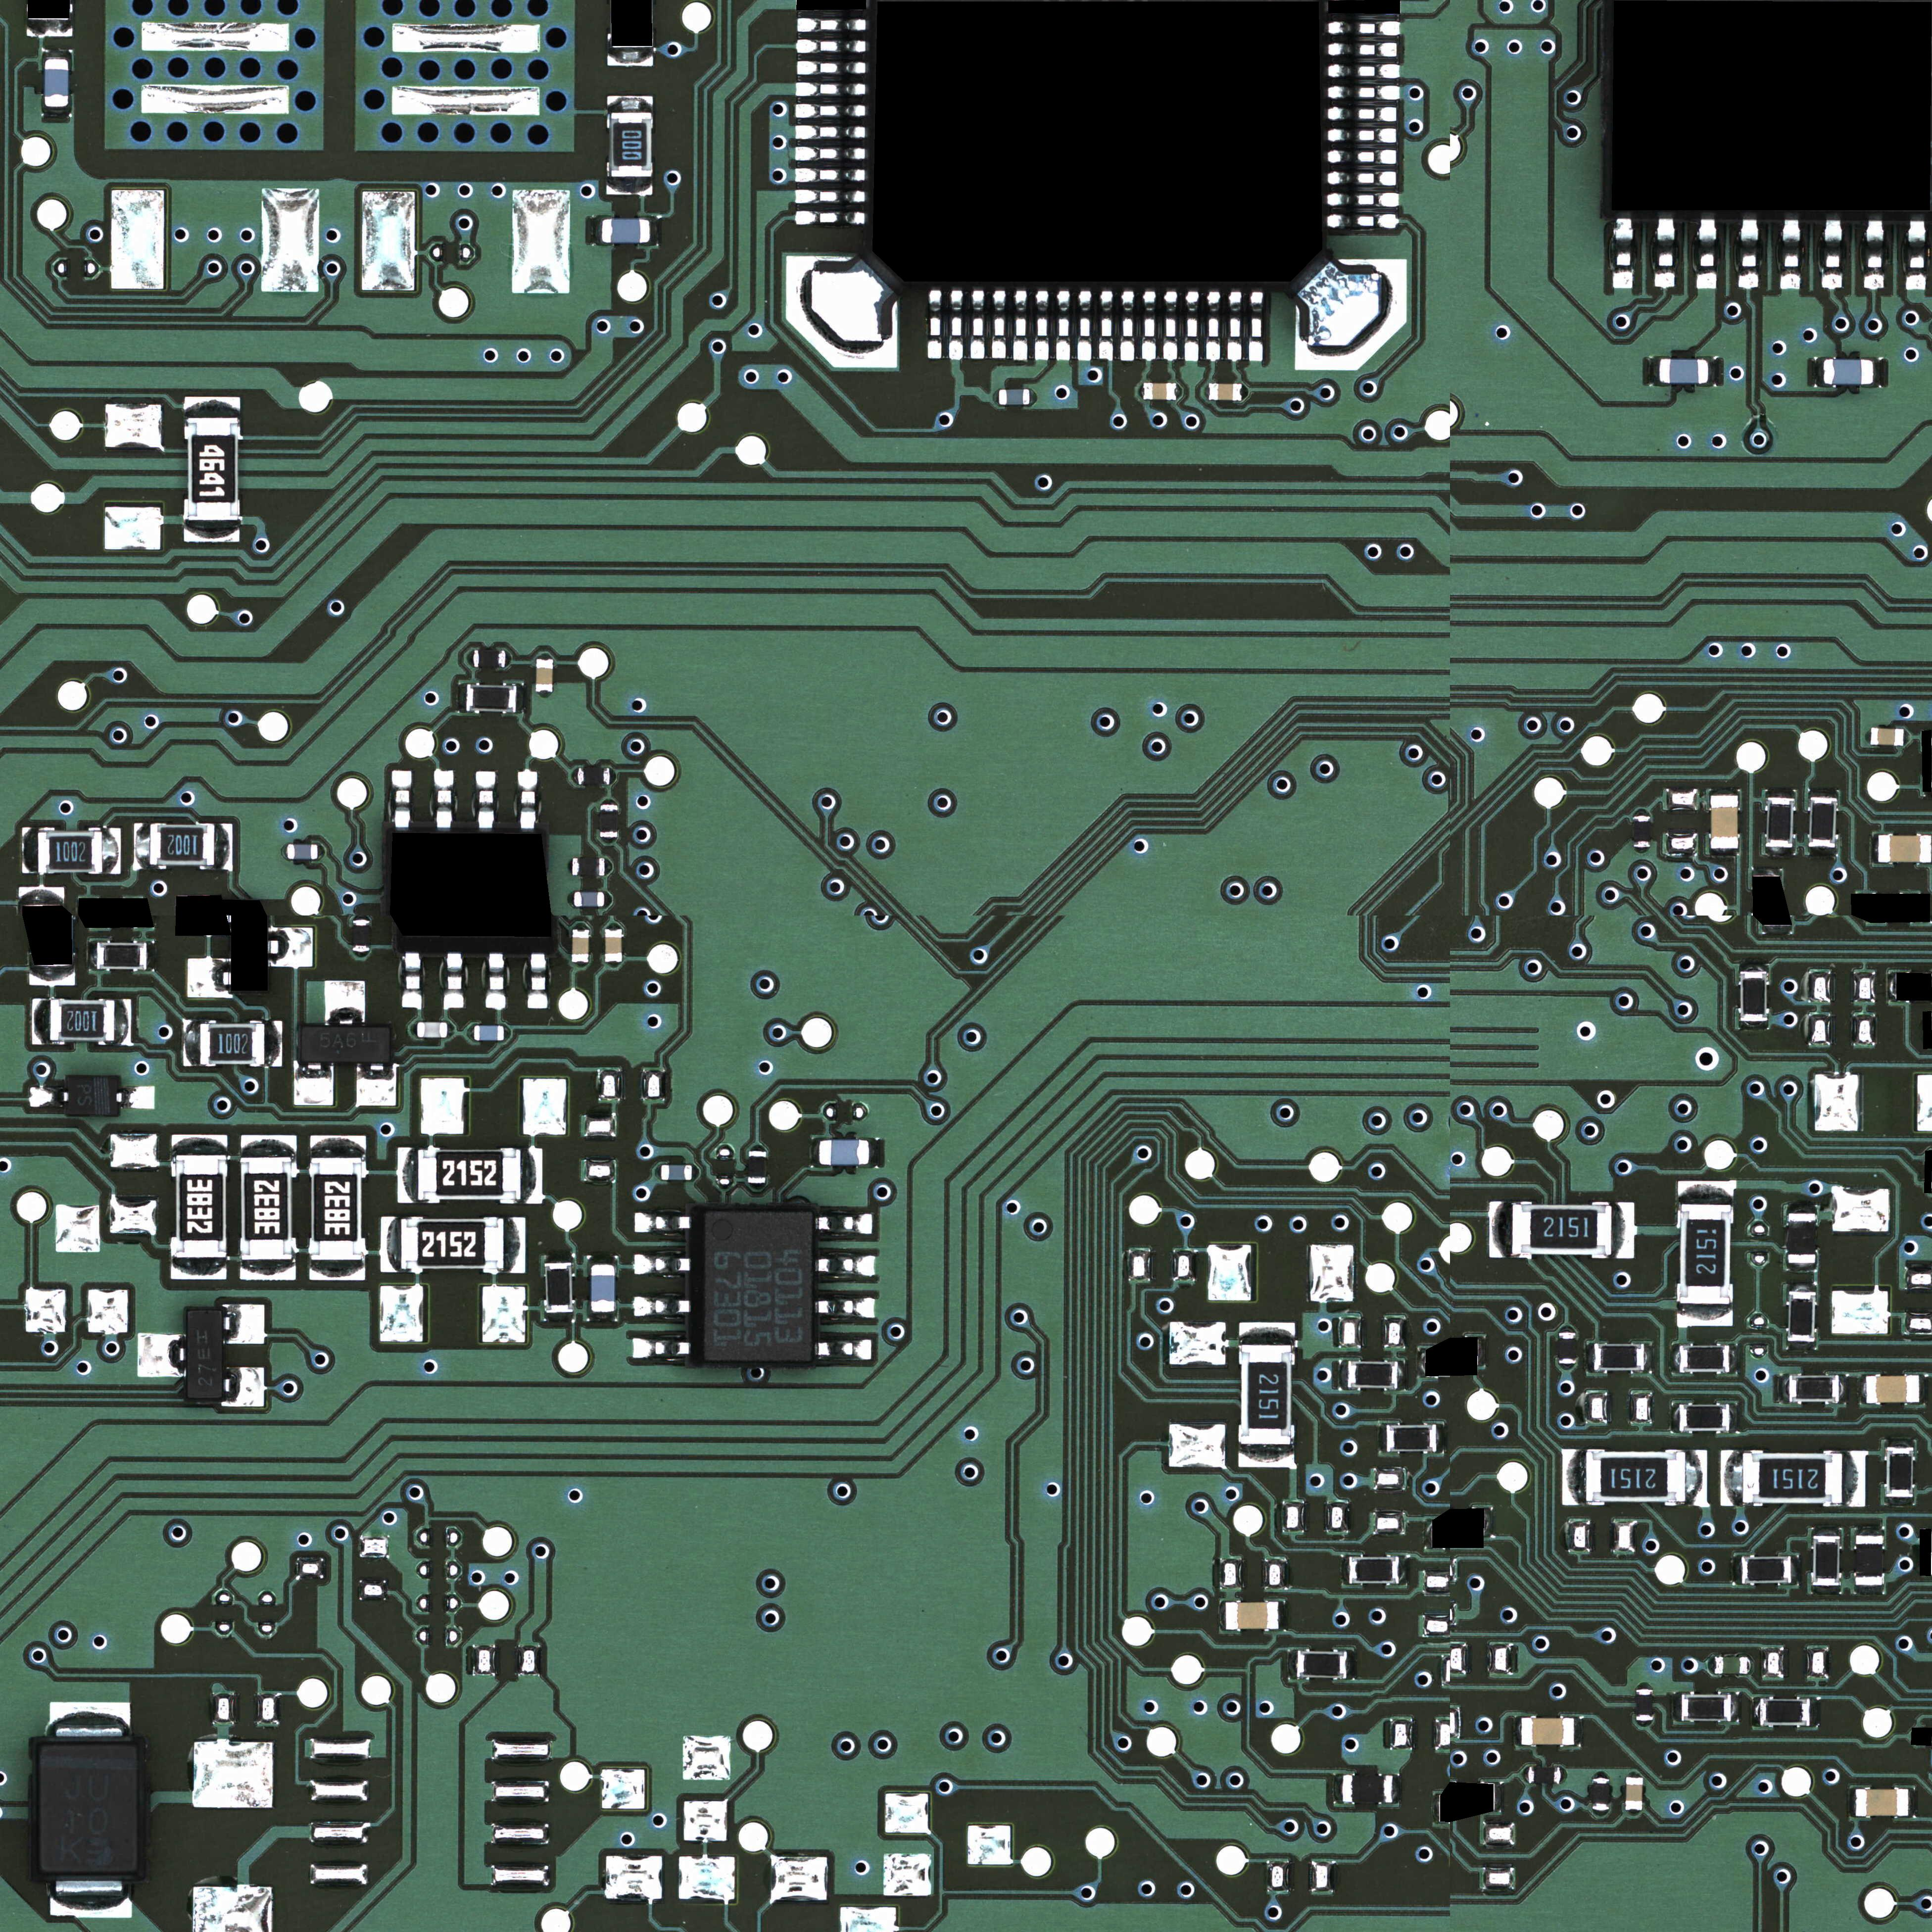Package: (704, 1212, 814, 1362), (37, 1744, 138, 1874), (1583, 1451, 1686, 1504), (418, 1150, 522, 1201), (1511, 1203, 1612, 1256), (186, 419, 239, 520), (310, 1159, 363, 1260), (400, 1219, 506, 1269), (173, 1157, 226, 1256), (242, 1159, 294, 1260), (1743, 1453, 1842, 1504), (1681, 1205, 1732, 1304), (1240, 1345, 1292, 1444), (1242, 1345, 1292, 1444), (299, 1024, 393, 1063), (186, 1311, 223, 1399), (149, 824, 214, 865), (37, 832, 103, 872), (50, 1001, 115, 1042), (610, 113, 651, 177), (200, 1024, 264, 1065), (69, 1076, 115, 1115), (1711, 794, 1739, 849), (1879, 835, 1932, 863), (1787, 1214, 1817, 1263), (1865, 1376, 1920, 1403), (1341, 1775, 1392, 1803), (1856, 1789, 1909, 1815), (1226, 1603, 1279, 1629), (1856, 1536, 1884, 1585), (97, 943, 147, 971), (1522, 1718, 1573, 1744), (465, 685, 517, 711), (1679, 1346, 1730, 1373), (1679, 1405, 1730, 1431), (1810, 798, 1836, 847), (1741, 971, 1767, 1021), (1767, 798, 1794, 847), (819, 1139, 869, 1166), (1789, 1292, 1815, 1341), (1348, 1362, 1398, 1389), (1741, 1557, 1790, 1583), (1824, 359, 1874, 386), (1813, 1536, 1840, 1585), (1594, 1345, 1644, 1371), (1681, 1695, 1732, 1720), (1348, 1559, 1399, 1583), (547, 1263, 571, 1313), (1888, 1447, 1913, 1497), (1387, 1426, 1437, 1451), (1297, 1652, 1346, 1677), (1660, 359, 1709, 384), (1789, 1376, 1838, 1401), (1760, 1700, 1810, 1725), (591, 1265, 616, 1313), (44, 60, 69, 106), (602, 219, 649, 242), (1870, 727, 1904, 747), (600, 805, 619, 839), (605, 929, 623, 962), (536, 658, 554, 692), (571, 929, 589, 962), (748, 1150, 766, 1184), (472, 649, 506, 667), (1592, 1778, 1610, 1812), (577, 768, 610, 786), (1529, 1766, 1562, 1783), (1626, 1776, 1644, 1810), (1633, 816, 1651, 847), (573, 858, 605, 876), (1559, 1332, 1576, 1364), (1208, 384, 1242, 400), (1637, 1690, 1652, 1721), (287, 844, 318, 860), (354, 920, 370, 952), (1143, 384, 1175, 400), (662, 1164, 692, 1180), (575, 892, 605, 908), (1000, 389, 1030, 405), (418, 1023, 448, 1037), (474, 1026, 504, 1040)
Solder: (1295, 258, 1407, 370), (787, 257, 897, 368), (50, 1875, 129, 1918), (50, 1702, 131, 1743), (138, 1334, 186, 1376), (269, 925, 313, 968), (223, 1304, 265, 1345), (356, 1065, 396, 1106), (326, 982, 364, 1024), (223, 1368, 265, 1407), (294, 1063, 333, 1106), (188, 959, 230, 998), (1821, 219, 1844, 288), (1905, 219, 1927, 290), (1737, 219, 1759, 290), (1654, 218, 1675, 288), (816, 1254, 876, 1277), (1865, 219, 1884, 290), (1614, 218, 1633, 288), (1782, 219, 1801, 288), (1697, 219, 1716, 288), (633, 1253, 690, 1276), (1238, 1445, 1295, 1468), (633, 1293, 690, 1316), (816, 1297, 876, 1318), (474, 770, 495, 830), (1612, 1203, 1635, 1258), (1677, 1304, 1732, 1327), (632, 1338, 690, 1359), (1677, 1182, 1736, 1203), (391, 770, 412, 828), (517, 771, 538, 830), (1490, 1201, 1511, 1258), (1562, 1449, 1583, 1506), (816, 1214, 872, 1235), (504, 1217, 525, 1274), (170, 1258, 226, 1279), (184, 522, 241, 543), (184, 396, 241, 418), (310, 1136, 366, 1157), (1686, 1451, 1707, 1507), (241, 1136, 297, 1157), (1238, 1323, 1295, 1345), (1721, 1451, 1743, 1507), (816, 1339, 872, 1361), (485, 952, 506, 1008), (1844, 1453, 1865, 1507), (635, 1212, 690, 1233), (433, 770, 453, 828), (1162, 290, 1178, 361), (1329, 21, 1399, 37), (1327, 212, 1398, 228), (1327, 191, 1398, 207), (239, 1261, 295, 1281), (522, 1148, 541, 1205), (172, 1136, 228, 1155), (444, 952, 464, 1008), (529, 952, 548, 1008), (1247, 292, 1263, 361), (1329, 42, 1398, 58), (1327, 106, 1396, 122), (1329, 149, 1396, 165), (310, 1261, 364, 1281), (380, 1217, 400, 1272), (402, 952, 421, 1007), (1329, 64, 1401, 78), (1329, 85, 1401, 99), (796, 211, 867, 225), (794, 189, 865, 203), (1056, 290, 1070, 361), (1077, 290, 1092, 361), (798, 18, 867, 32), (798, 39, 867, 53), (796, 168, 865, 182), (796, 147, 865, 161), (929, 290, 943, 359), (948, 290, 962, 359), (971, 288, 985, 357), (1014, 290, 1028, 359), (1099, 290, 1113, 359), (1205, 292, 1219, 361), (1185, 292, 1200, 361), (1327, 129, 1396, 143), (1327, 172, 1396, 186), (398, 1148, 416, 1203), (993, 288, 1005, 359), (1122, 290, 1134, 361), (1143, 290, 1155, 361), (1228, 290, 1240, 361), (117, 1086, 154, 1109), (798, 62, 867, 74), (798, 83, 867, 96), (796, 126, 865, 138), (796, 104, 865, 117), (1035, 290, 1047, 359), (182, 1019, 200, 1067), (216, 823, 234, 870), (265, 1021, 283, 1067), (32, 1000, 50, 1046), (103, 828, 120, 874), (607, 177, 653, 195), (28, 968, 74, 985), (27, 19, 73, 37), (19, 886, 64, 904), (609, 48, 653, 65), (115, 1000, 131, 1046), (30, 1088, 67, 1108), (134, 823, 149, 870), (607, 97, 653, 111), (23, 830, 35, 874), (1874, 357, 1888, 389), (1709, 356, 1723, 387), (1399, 1555, 1410, 1589), (1776, 1375, 1789, 1403), (589, 218, 602, 246), (543, 1313, 575, 1323), (41, 108, 73, 119), (1806, 847, 1838, 858), (1762, 925, 1794, 936), (1787, 1203, 1817, 1214), (1430, 1792, 1440, 1822), (147, 941, 157, 971), (869, 1139, 879, 1168), (1645, 357, 1656, 386), (1810, 1698, 1821, 1727), (1415, 1348, 1426, 1376), (1762, 847, 1796, 856), (586, 1256, 619, 1265), (1785, 1283, 1817, 1292), (587, 1313, 619, 1322), (1288, 1649, 1297, 1681), (1810, 1527, 1842, 1536), (1338, 1359, 1346, 1391), (1437, 1422, 1445, 1454), (1806, 847, 1838, 856), (1785, 1263, 1817, 1272), (543, 1254, 575, 1263), (1346, 1647, 1355, 1679), (1888, 970, 1897, 1001), (1752, 867, 1783, 876), (42, 50, 73, 58), (651, 216, 660, 246), (1766, 789, 1796, 798), (458, 683, 467, 713), (1334, 1775, 1343, 1805), (1884, 1438, 1914, 1447), (1812, 357, 1821, 387), (1398, 1361, 1407, 1391), (1730, 1403, 1739, 1433), (1909, 1787, 1918, 1817), (1808, 789, 1838, 798), (1854, 1527, 1884, 1536), (1341, 1555, 1350, 1585), (1378, 1422, 1387, 1453), (1838, 1375, 1847, 1405), (1392, 1775, 1401, 1805), (1575, 1716, 1583, 1746), (1884, 1497, 1914, 1506), (1479, 1338, 1488, 1368), (1484, 1507, 1493, 1537), (1739, 962, 1767, 971), (1672, 1693, 1681, 1721), (1670, 1345, 1679, 1373), (1495, 1783, 1504, 1812), (88, 941, 97, 970), (1785, 1343, 1817, 1350), (1854, 1587, 1886, 1594), (1279, 1599, 1286, 1631), (1870, 833, 1877, 865), (1812, 1587, 1842, 1594), (1587, 1343, 1594, 1373), (1730, 1345, 1737, 1375), (1739, 1023, 1769, 1030), (1645, 1343, 1652, 1373), (1709, 787, 1739, 794), (1792, 1555, 1799, 1585), (1920, 1375, 1927, 1405), (517, 683, 524, 713), (1709, 849, 1739, 856), (1752, 1697, 1759, 1727), (1732, 1693, 1739, 1723), (1424, 1520, 1431, 1550), (747, 1184, 770, 1192), (1734, 1555, 1741, 1583), (1514, 1718, 1522, 1746), (1672, 1405, 1679, 1431), (1219, 1599, 1224, 1633), (1849, 1787, 1854, 1817), (602, 796, 619, 805), (603, 858, 612, 876), (1863, 725, 1870, 747), (573, 920, 589, 929), (812, 1139, 817, 1166), (1859, 1376, 1865, 1403), (1624, 1810, 1644, 1817), (534, 651, 554, 658), (1592, 1810, 1610, 1817), (605, 922, 623, 929), (600, 837, 617, 844), (1633, 809, 1651, 816), (504, 649, 511, 667), (352, 952, 370, 959), (467, 649, 474, 667), (1559, 1325, 1576, 1332), (1522, 1766, 1529, 1783), (410, 1021, 418, 1039), (504, 1024, 511, 1042), (1637, 1683, 1652, 1690), (1592, 1771, 1608, 1778), (1030, 389, 1037, 405), (1626, 1769, 1642, 1776), (352, 915, 372, 920), (1557, 1364, 1576, 1369), (1904, 727, 1909, 747), (605, 962, 625, 968), (1138, 384, 1145, 398), (1633, 847, 1651, 853), (448, 1021, 453, 1039), (571, 962, 589, 968), (694, 1164, 699, 1182), (748, 1145, 766, 1150), (1637, 1721, 1654, 1727), (605, 892, 610, 908), (656, 1164, 662, 1180), (1177, 384, 1182, 400), (1242, 384, 1247, 400), (536, 692, 552, 697), (467, 1024, 472, 1040), (1562, 1767, 1568, 1783), (318, 844, 324, 860), (993, 391, 998, 405), (1203, 384, 1208, 398), (281, 844, 287, 858), (571, 770, 577, 784), (610, 770, 616, 784), (568, 893, 573, 904), (568, 860, 571, 874)
